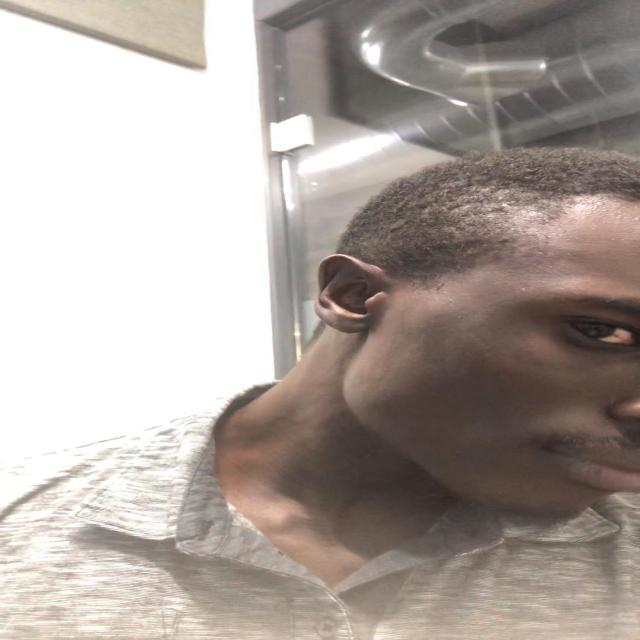face: (331, 222, 640, 520)
